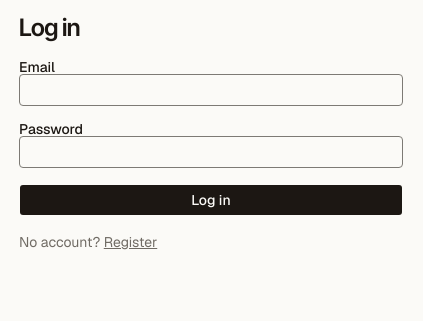
LoginForm › shows the backend message on 401 invalid-credentials
In the field labelled "Email": (211, 90) [19,74,403,106], type "wrong@nexus.test"
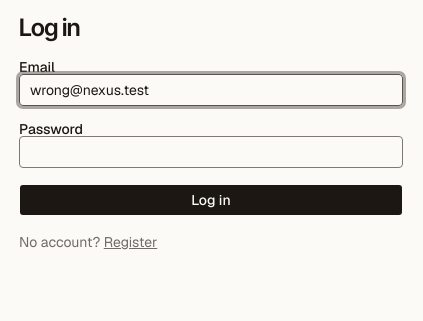
In the password field labelled "Password": (211, 152) [19,136,403,168], type "wrongpw"
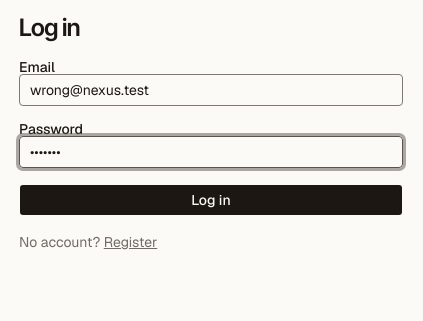
Click the button "Log in": (211, 200) [19,184,403,216]
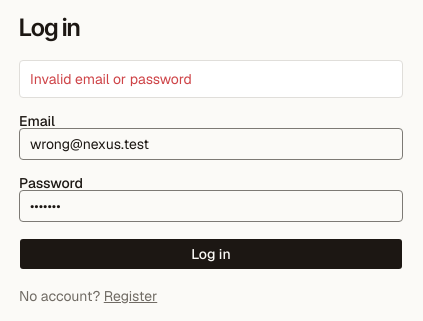
Now the text "Invalid email or password" is shown, box [30,70,192,88]
